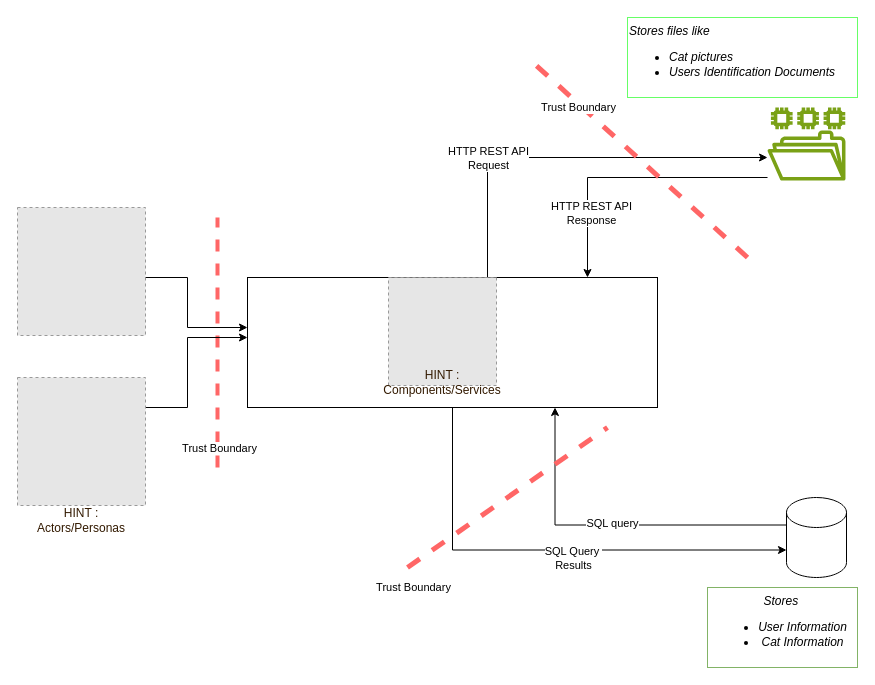
Some shapes in this 875 by 685 pixel diagram are drawn without their labels. Grey dashed boxes stand in for pictures. Each missing label, with the centre of its shape:
"File Storage" goes at (x=806, y=143).
"Storage" goes at (x=816, y=537).
